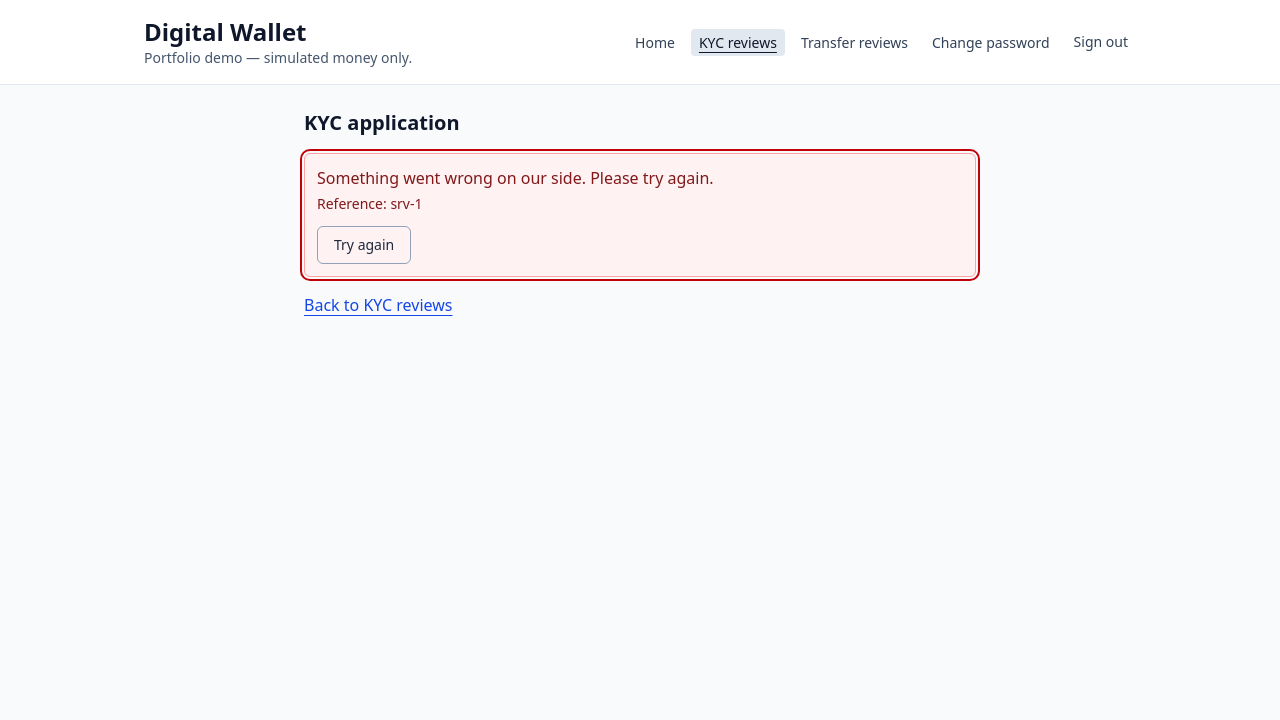
KYC application detail › offers Try again after any other load error
This screenshot has width=1280, height=720.
Expected: the message shows "Reference: srv-1", left=304, top=153, right=976, bottom=277
Click the button "Try again": (364, 245) left=317, top=226, right=411, bottom=264
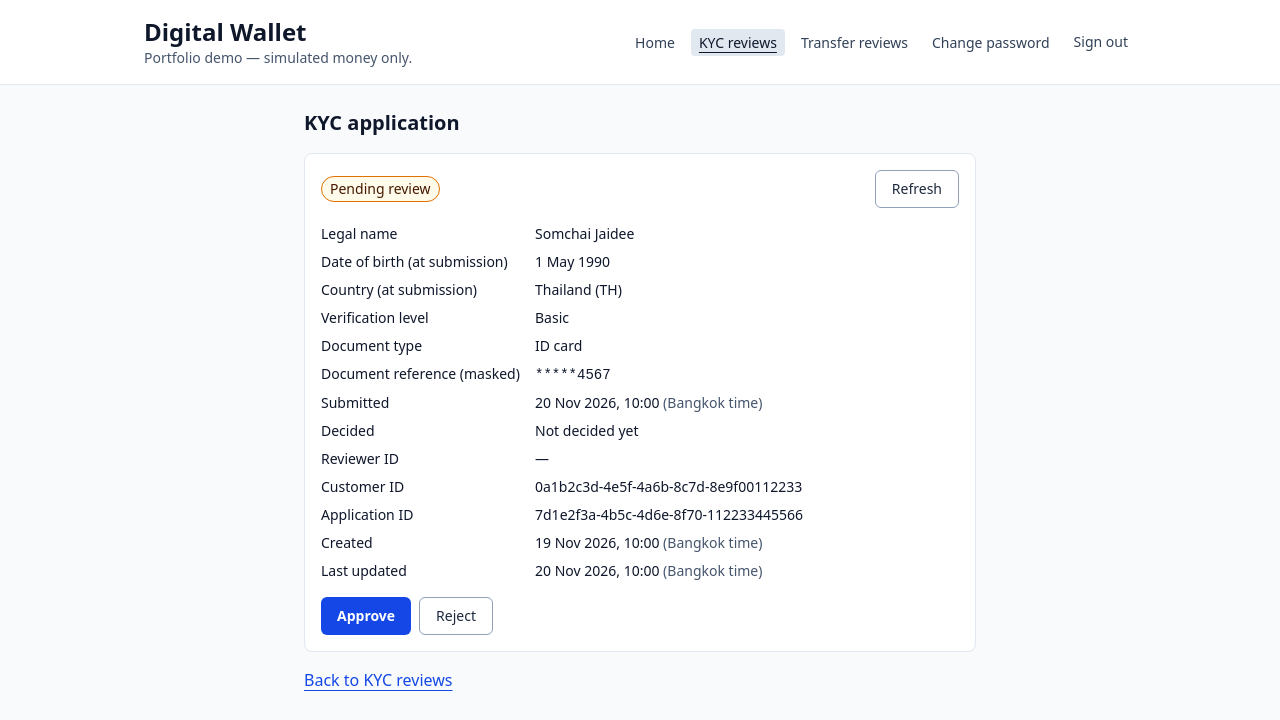
Expected: the text "Somchai Jaidee" is shown, left=535, top=224, right=634, bottom=243
